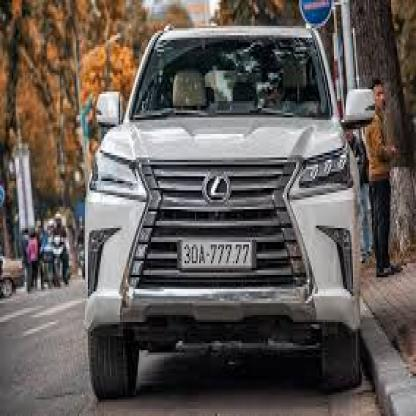biensoxe: (178, 238, 255, 271)
